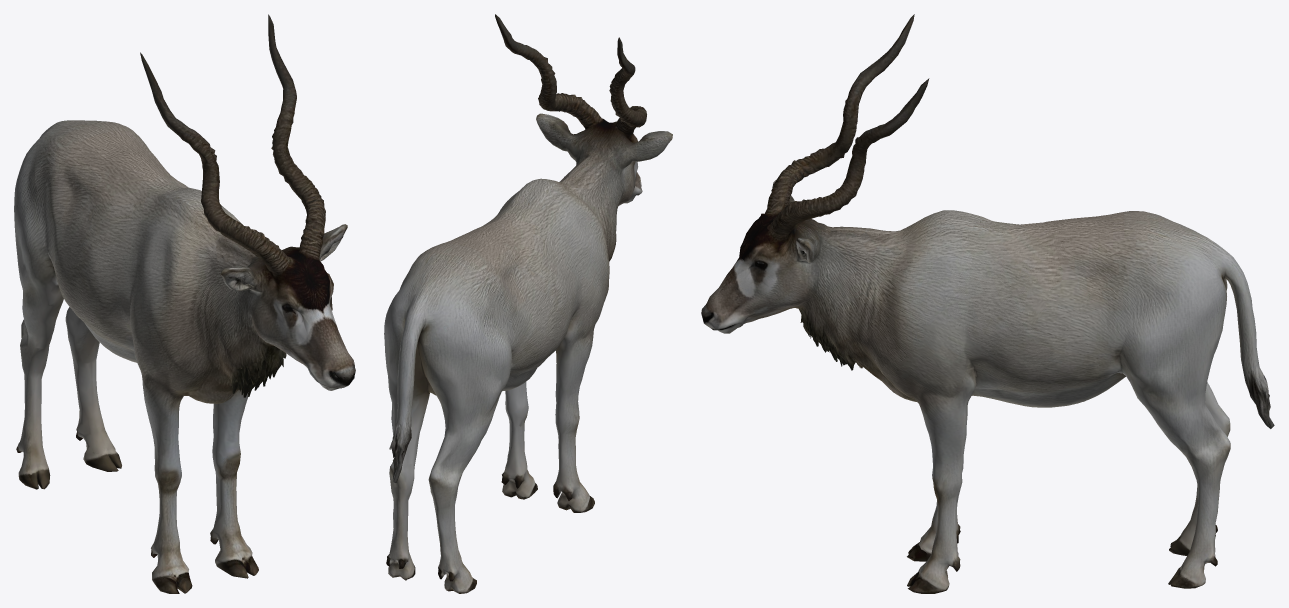
File: addax.glb
3 views of the same model, side by side, from view 1: azimuth 30°, elevation 25°; view 2: azimuth 150°, elevation 25°; view 3: azimuth 270°, elevation 25° (orthographic). The views are drawn at different scales.
Visible parts, largest first — view 1: tripo_node_75f26944-8f15-4e8f-a6bd-6ee33848203a; view 2: tripo_node_75f26944-8f15-4e8f-a6bd-6ee33848203a; view 3: tripo_node_75f26944-8f15-4e8f-a6bd-6ee33848203a.
Boxes of the visible parts, x1,y1,x2,y2 form: tripo_node_75f26944-8f15-4e8f-a6bd-6ee33848203a: (14,14,355,593); tripo_node_75f26944-8f15-4e8f-a6bd-6ee33848203a: (384,14,672,593); tripo_node_75f26944-8f15-4e8f-a6bd-6ee33848203a: (701,14,1274,593).
Bounding box in the file's own units: 0.2888 × 1 × 0.9903.
Materials: 1 (1 with a texture image).
